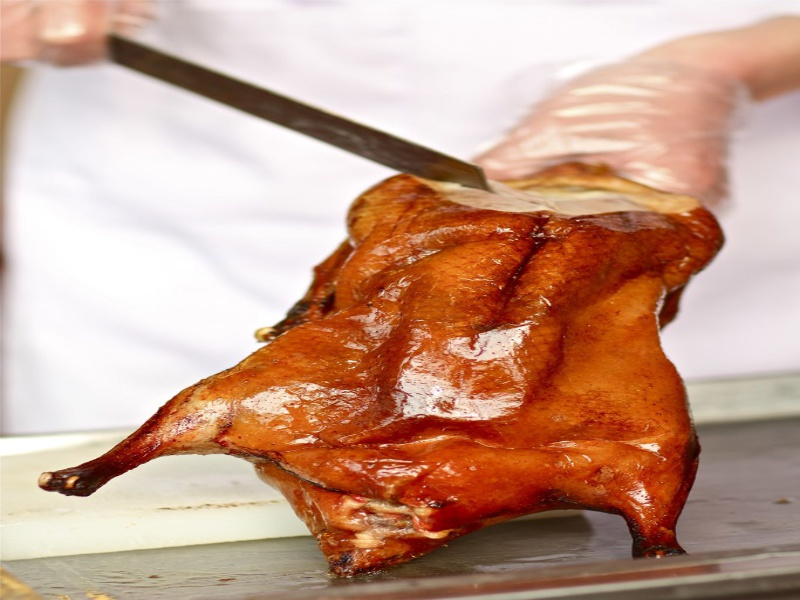wine: (528, 27, 800, 575), (115, 423, 578, 573), (138, 219, 628, 347)
